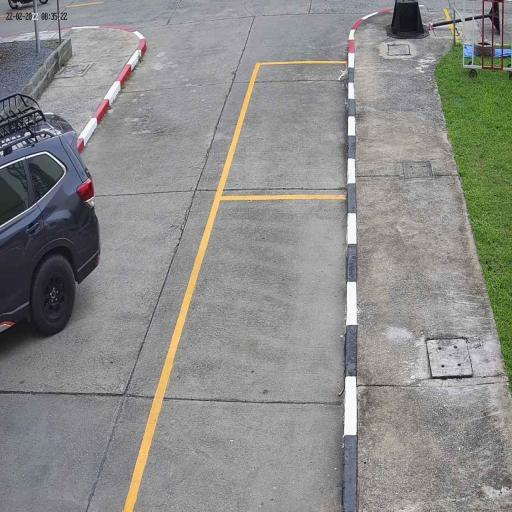car: (0, 96, 100, 345)
